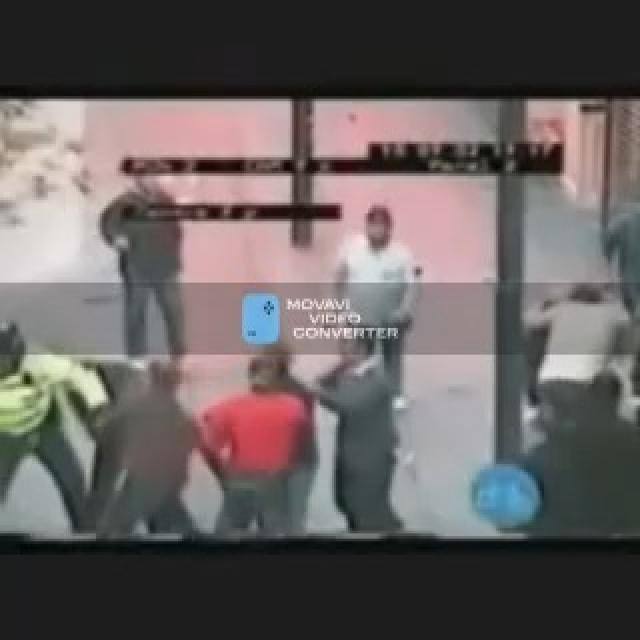non-voilence: (0, 91, 638, 541), (194, 341, 318, 536), (330, 203, 422, 408), (98, 179, 188, 376), (312, 349, 404, 531)
